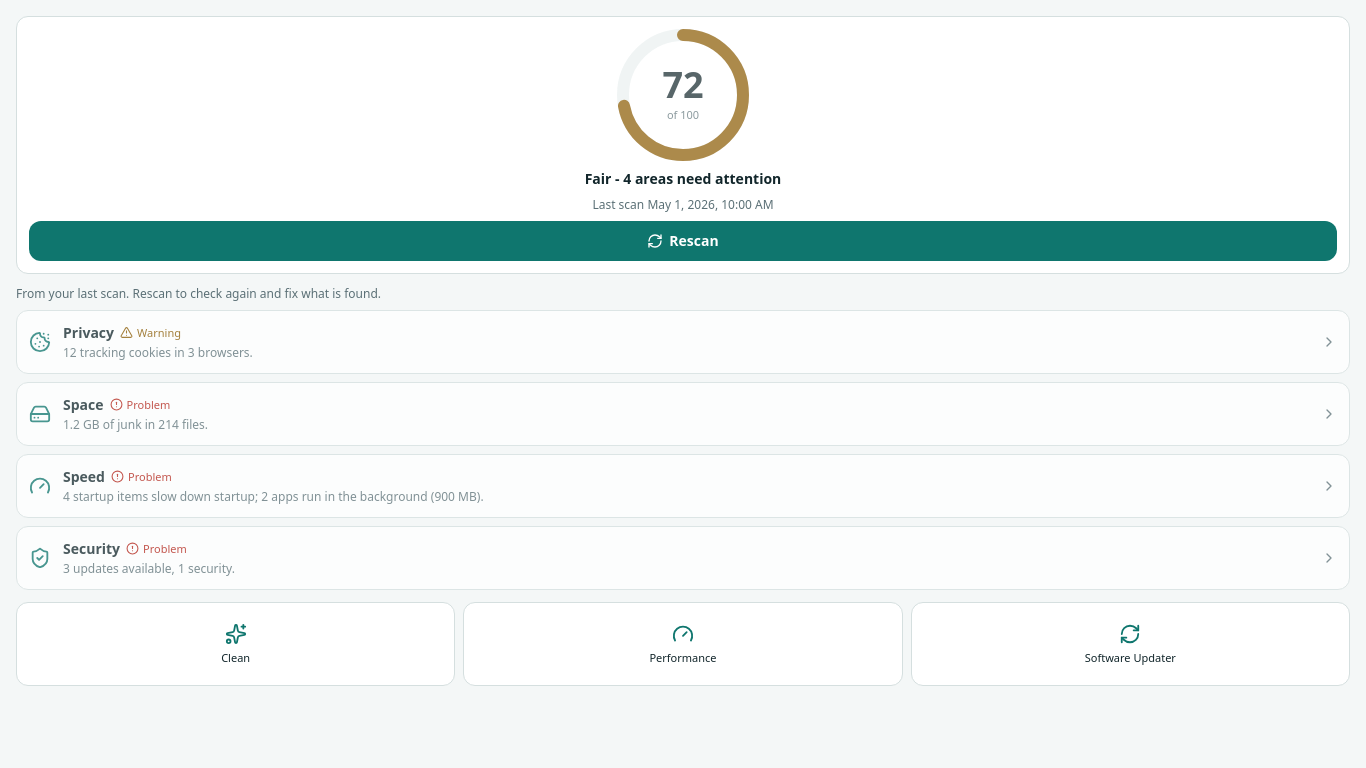
Home: the previous scan › shows the last score at once, dimmed, with a Rescan button and nothing fixable
The width and height of the screenshot is (1366, 768).
expect the picture named "Health score 72 of 100" is shown: met, box [617,29,749,161]
expect the text with test id "health-scanned" shows "Last scan": met, box [592,196,774,213]
Click the button with test id "cat-security": (92, 548) [16,526,1350,590]
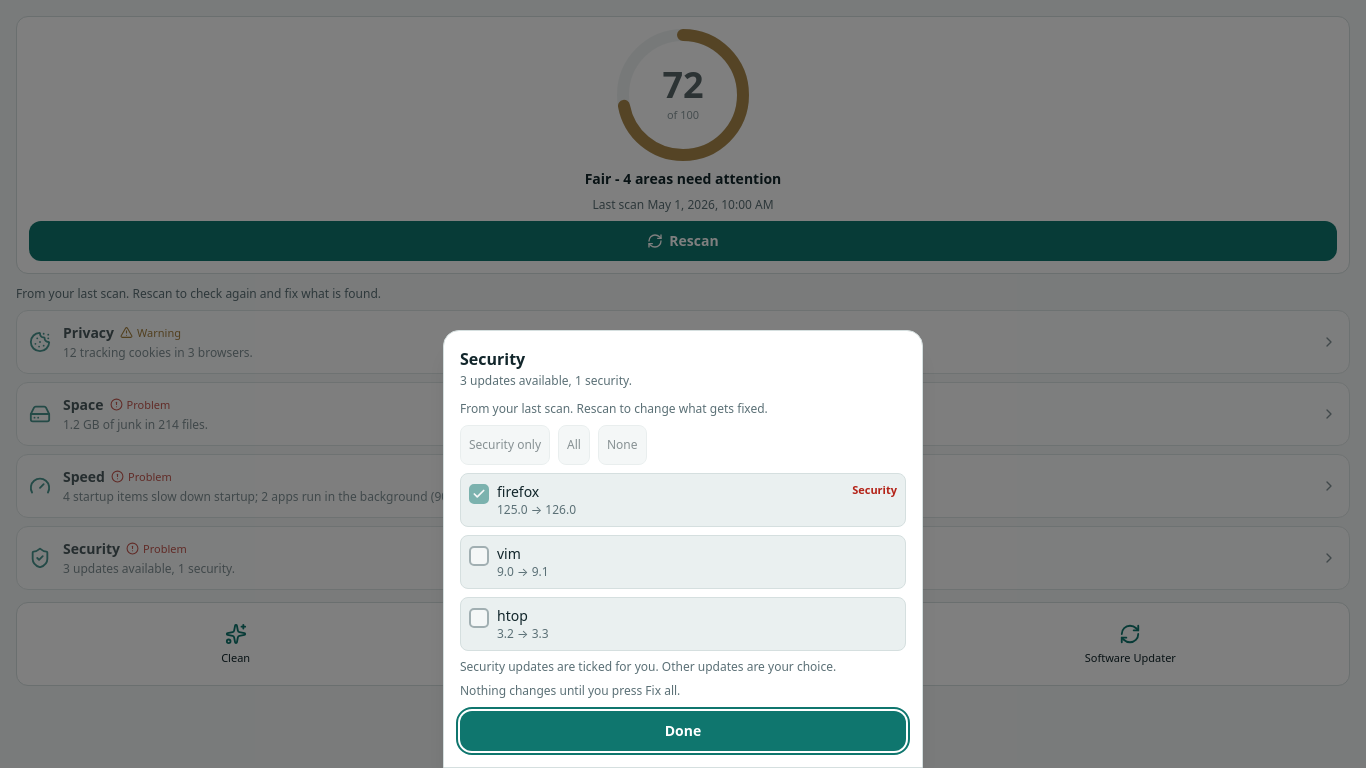
expect the text "From your last scan. Rescan to change what gets fixed." is shown: met, box [460,400,768,417]
expect the checkbox with test id "sel-update-apt:firefox" is disabled: met, box [460,473,906,527]
